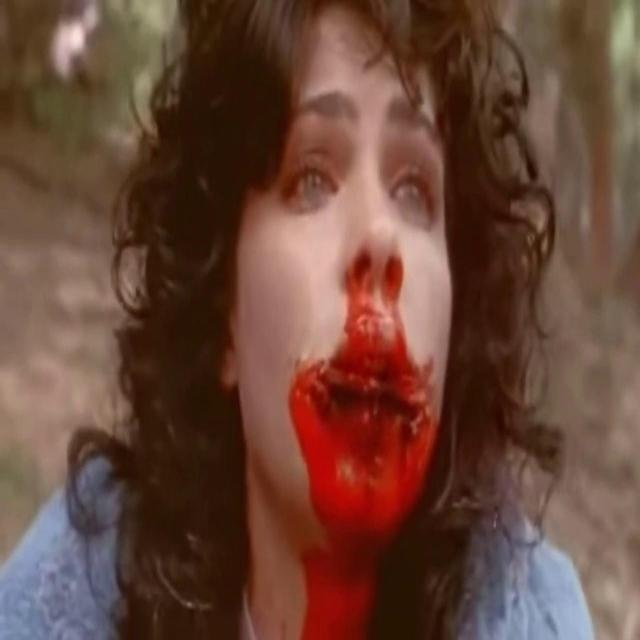flood: (295, 386, 436, 640)
